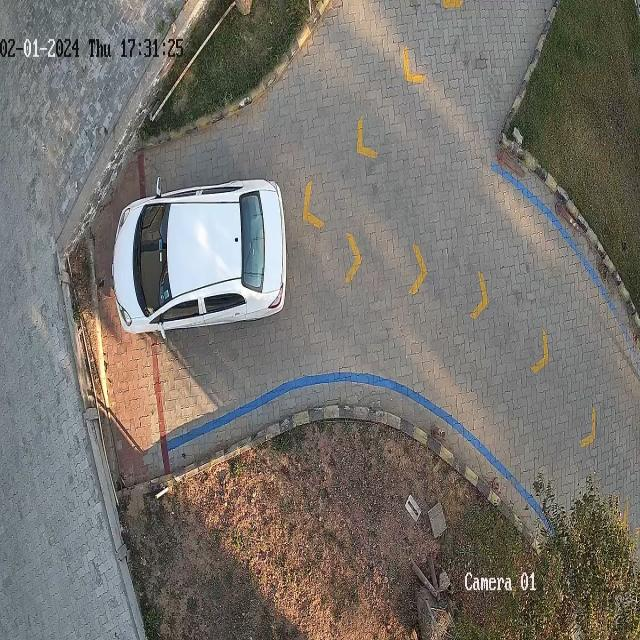car: (115, 181, 286, 332)
